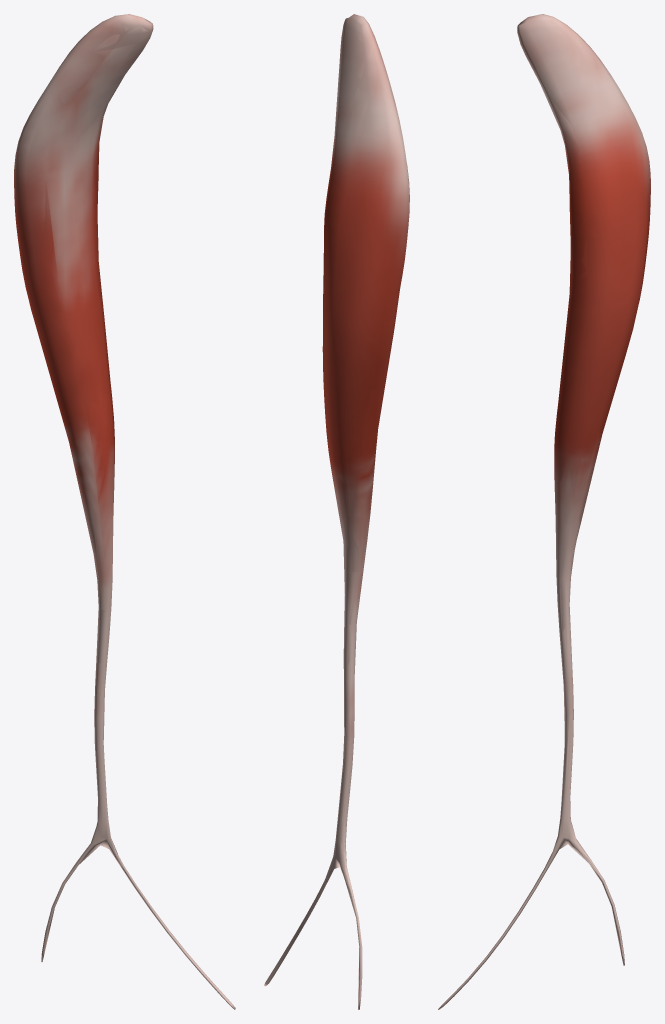
File: L Lateral Digital Extensor.fbx
3 views of the same model, side by side, from view 1: azimuth 90°, elevation 25°; view 2: azimuth 210°, elevation 25°; view 3: azimuth 270°, elevation 25° (orthographic). The views are drawn at different scales.
Parts seen in each view (by area): view 1: L Lateral Digital Extensor low, L Lateral Digital Extensor; view 2: L Lateral Digital Extensor, L Lateral Digital Extensor low; view 3: L Lateral Digital Extensor, L Lateral Digital Extensor low.
Boxes of the visible parts, <box> form: L Lateral Digital Extensor low: <box>16,15,224,998</box>; L Lateral Digital Extensor: <box>14,14,235,1009</box>; L Lateral Digital Extensor: <box>264,14,409,1009</box>; L Lateral Digital Extensor low: <box>266,15,409,993</box>; L Lateral Digital Extensor: <box>438,14,650,1009</box>; L Lateral Digital Extensor low: <box>520,14,650,952</box>.
Size of the model in its own units: 1.53 by 21.61 by 4.28.
